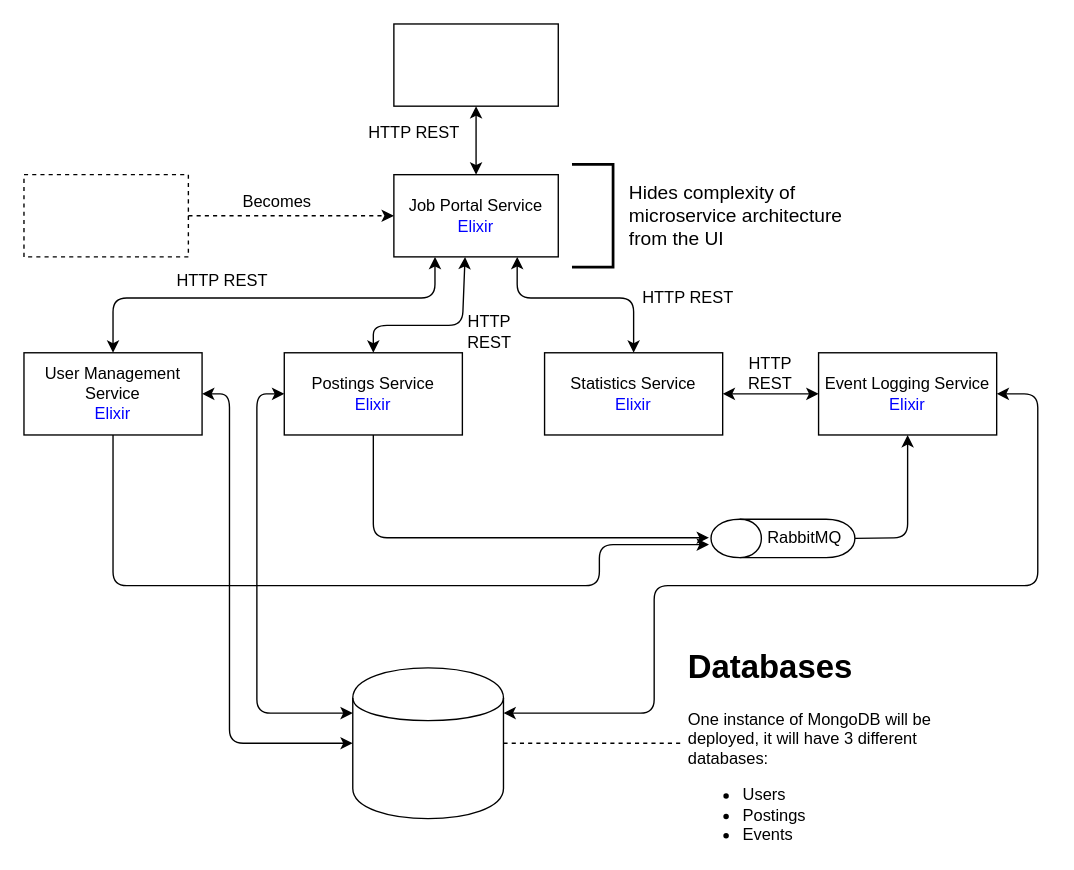
Some shapes in this 1074 by 870 pixel diagram are drawn without their labels. Here are the shapes that lost their labels. From the top down, the centre of each, then its label:
At [475,64]: "Job Portal UI Angular".
At [105,215]: "JobPortalBE".
At [427,743]: "MongoDB".
